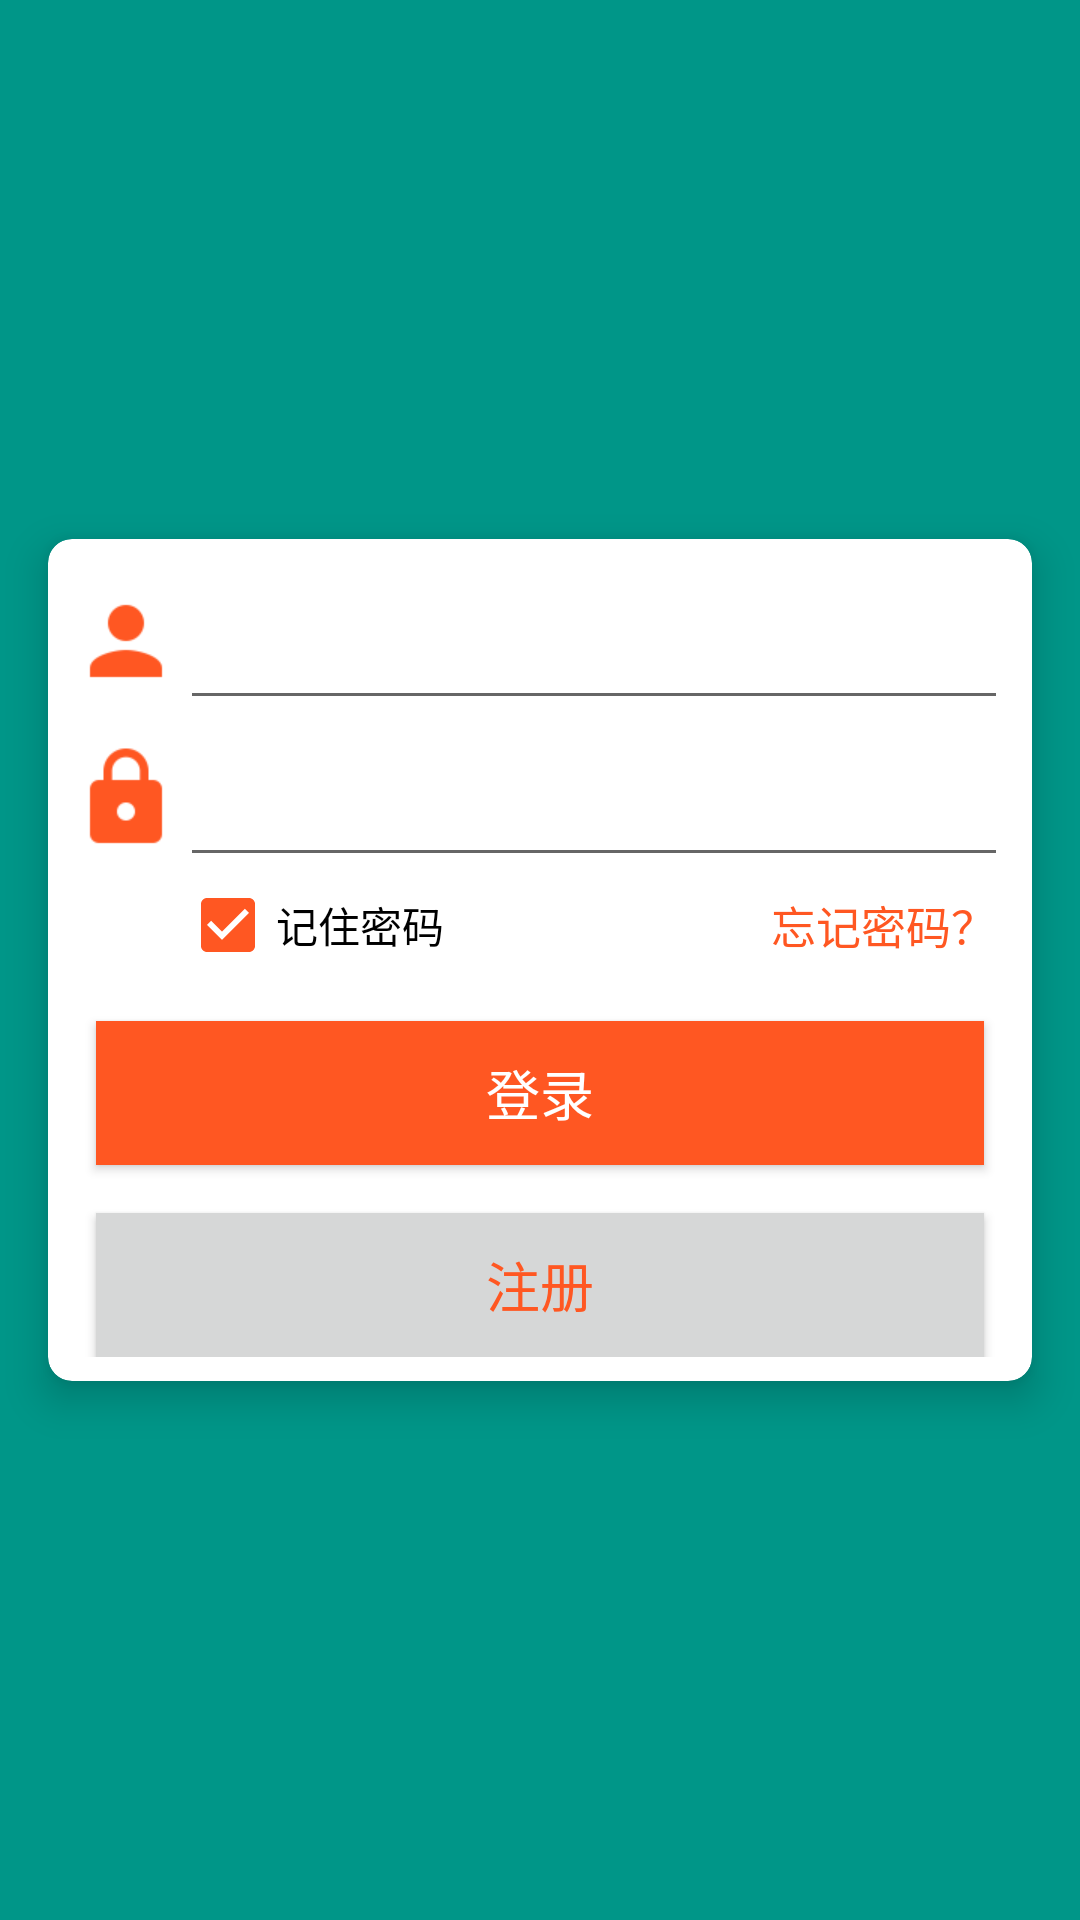

Named icons in this screenshot (1080×1920) and their centers, [x,y]:
lock: [126,796]
person: [126,641]
